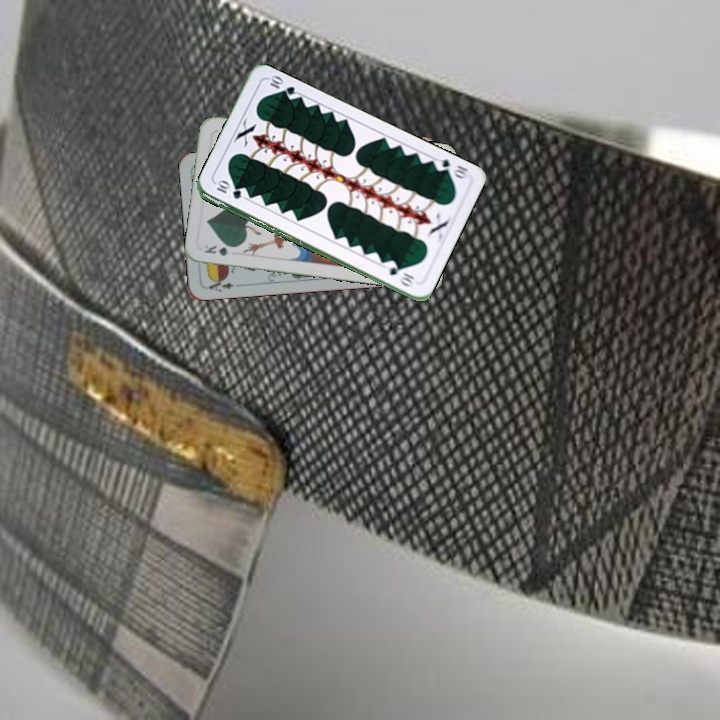EA: (202, 274, 243, 295)
G10: (430, 154, 470, 181), (212, 179, 244, 202)
GK: (200, 241, 240, 259)
